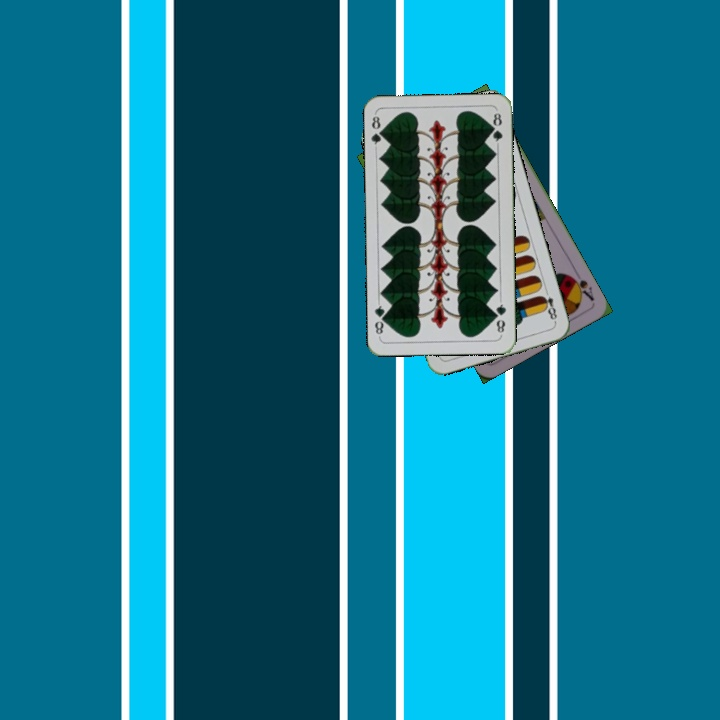E8: (537, 285, 559, 325)
G8: (367, 110, 387, 151), (491, 297, 509, 337)
SA: (565, 271, 597, 304)
